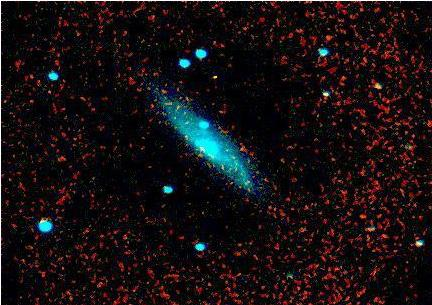star: (314, 22, 344, 52)
